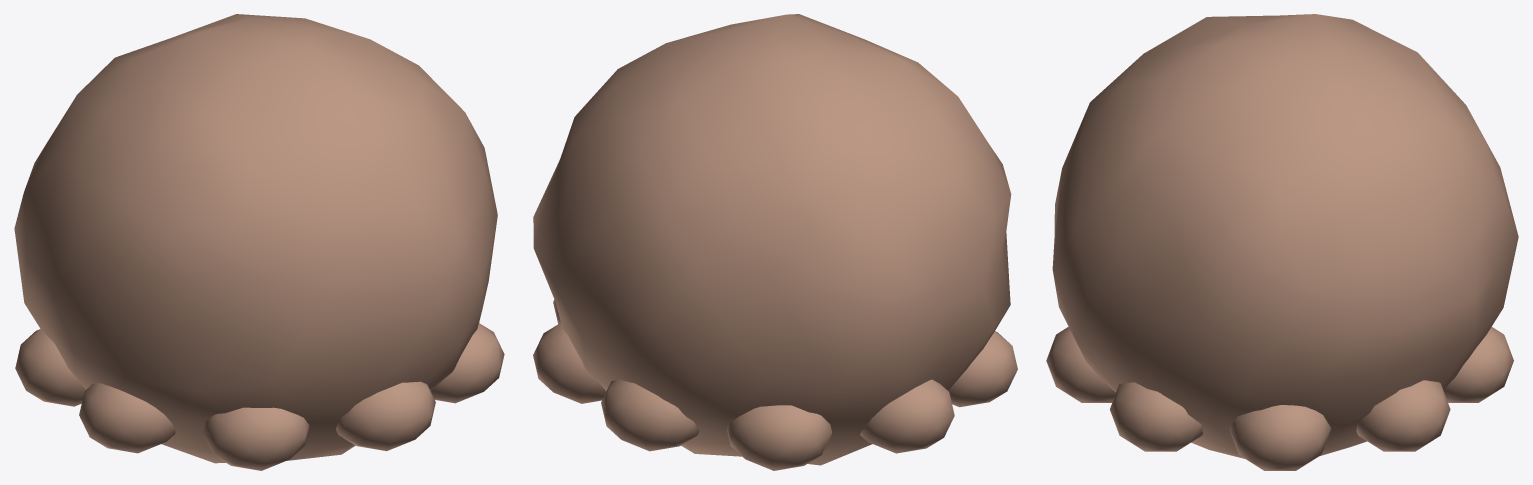
Rendered from Coffee_scoop.fbx.
3 renders of one model, left to right at view 1: azimuth 30°, elevation 25°; view 2: azimuth 150°, elevation 25°; view 3: azimuth 270°, elevation 25°, orthographic.
Visible parts, largest first — view 1: Toon_Coffee_scoop Coffee scoop.001, Toon_Coffee_scoop Ruffled scoop edge.015, Toon_Coffee_scoop Ruffled scoop edge.016, Toon_Coffee_scoop Ruffled scoop edge.014, Toon_Coffee_scoop Ruffled scoop edge.013, Toon_Coffee_scoop Ruffled scoop edge.017; view 2: Toon_Coffee_scoop Coffee scoop.001, Toon_Coffee_scoop Ruffled scoop edge.012, Toon_Coffee_scoop Ruffled scoop edge.011, Toon_Coffee_scoop Ruffled scoop edge.013, Toon_Coffee_scoop Ruffled scoop edge.010, Toon_Coffee_scoop Ruffled scoop edge.014; view 3: Toon_Coffee_scoop Coffee scoop.001, Toon_Coffee_scoop Ruffled scoop edge.009, Toon_Coffee_scoop Ruffled scoop edge.010, Toon_Coffee_scoop Ruffled scoop edge.017, Toon_Coffee_scoop Ruffled scoop edge.011, Toon_Coffee_scoop Ruffled scoop edge.016.
Part boxes in pixels (x1,y1,x2,y2): Toon_Coffee_scoop Coffee scoop.001: (14, 14, 497, 463); Toon_Coffee_scoop Ruffled scoop edge.015: (202, 407, 309, 470); Toon_Coffee_scoop Ruffled scoop edge.016: (336, 381, 435, 451); Toon_Coffee_scoop Ruffled scoop edge.014: (79, 382, 175, 453); Toon_Coffee_scoop Ruffled scoop edge.013: (15, 329, 85, 406); Toon_Coffee_scoop Ruffled scoop edge.017: (431, 323, 504, 403); Toon_Coffee_scoop Coffee scoop.001: (533, 14, 1011, 465); Toon_Coffee_scoop Ruffled scoop edge.012: (727, 405, 832, 470); Toon_Coffee_scoop Ruffled scoop edge.011: (601, 379, 699, 451); Toon_Coffee_scoop Ruffled scoop edge.013: (860, 379, 954, 453); Toon_Coffee_scoop Ruffled scoop edge.010: (533, 323, 606, 403); Toon_Coffee_scoop Ruffled scoop edge.014: (948, 331, 1017, 407); Toon_Coffee_scoop Coffee scoop.001: (1052, 14, 1518, 458); Toon_Coffee_scoop Ruffled scoop edge.009: (1229, 405, 1330, 470); Toon_Coffee_scoop Ruffled scoop edge.010: (1356, 380, 1450, 451); Toon_Coffee_scoop Ruffled scoop edge.017: (1110, 382, 1202, 451); Toon_Coffee_scoop Ruffled scoop edge.011: (1443, 327, 1513, 402); Toon_Coffee_scoop Ruffled scoop edge.016: (1046, 327, 1115, 402).
Bounding box in the file's own units: 10.56 × 9.6 × 10.18.
